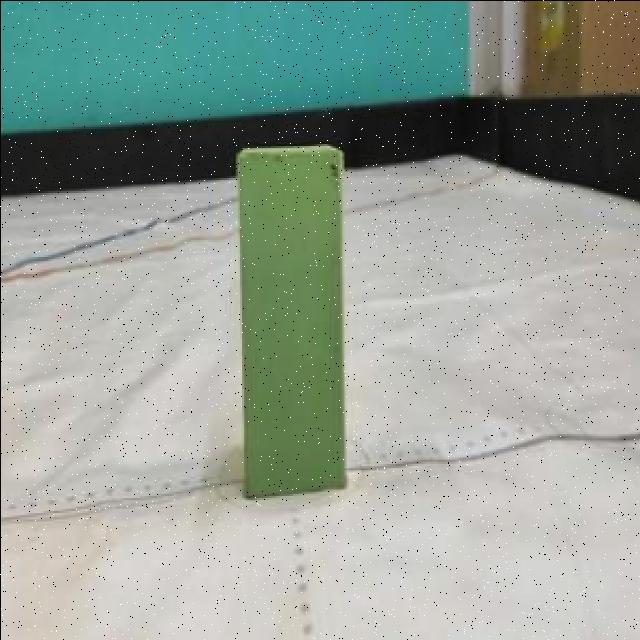greenbox: (240, 143, 347, 501)
